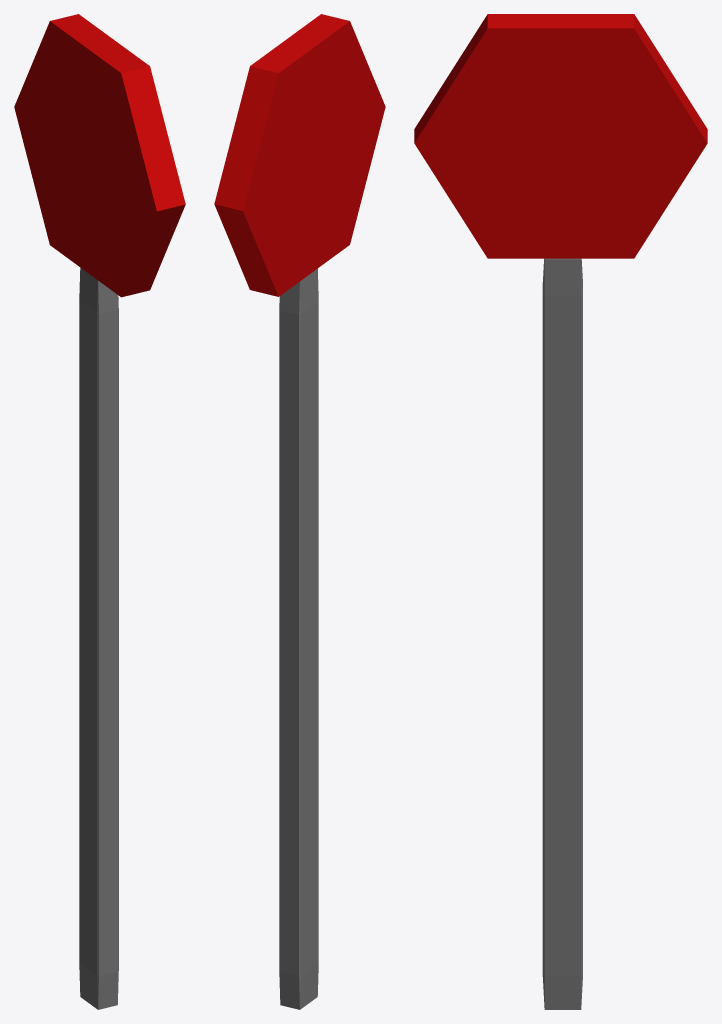
The model's file is StopSign.fbx.
3 renders of one model, left to right at view 1: azimuth 30°, elevation 25°; view 2: azimuth 150°, elevation 25°; view 3: azimuth 270°, elevation 25°, orthographic. The views are drawn at different scales.
Parts seen in each view (by area): view 1: Cube; view 2: Cube; view 3: Cube.
Boxes of the visible parts, box(x1,y1,x2,y2) form: Cube: box(14, 14, 185, 1009); Cube: box(214, 14, 385, 1009); Cube: box(414, 14, 707, 1009).
Size of the model in its own units: 23.32 by 740 by 200.
